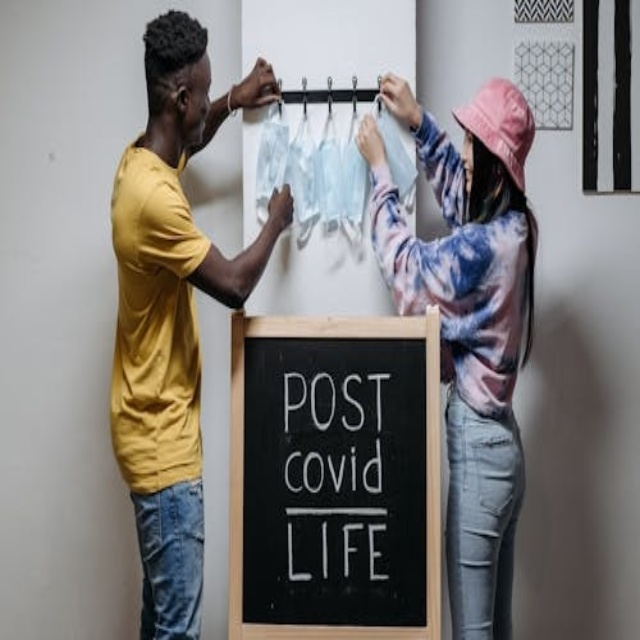Sin_guantes: (233, 52, 285, 113), (378, 63, 413, 125), (265, 180, 297, 240), (358, 111, 387, 171)
